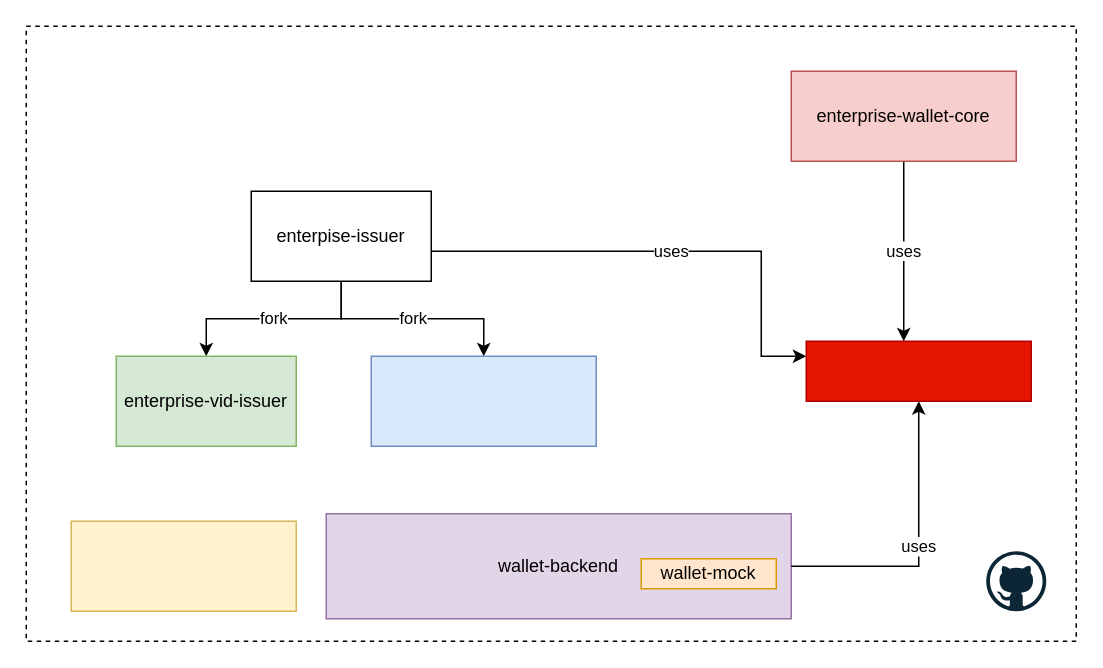
Some shapes in this 1103 by 668 pixel diagram are drawn without their labels. Here are the shapes that lost their labels. From the top down, the centre of each, then its label:
At point (918, 370): "ssi-pack".
At point (483, 400): "enterprise-diploma-issuer".
At point (183, 565): "wallet-mobile".
